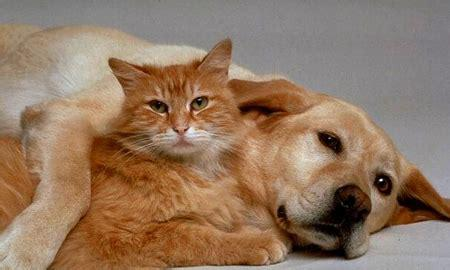cat: (1, 40, 290, 270)
dog: (1, 26, 449, 270)
